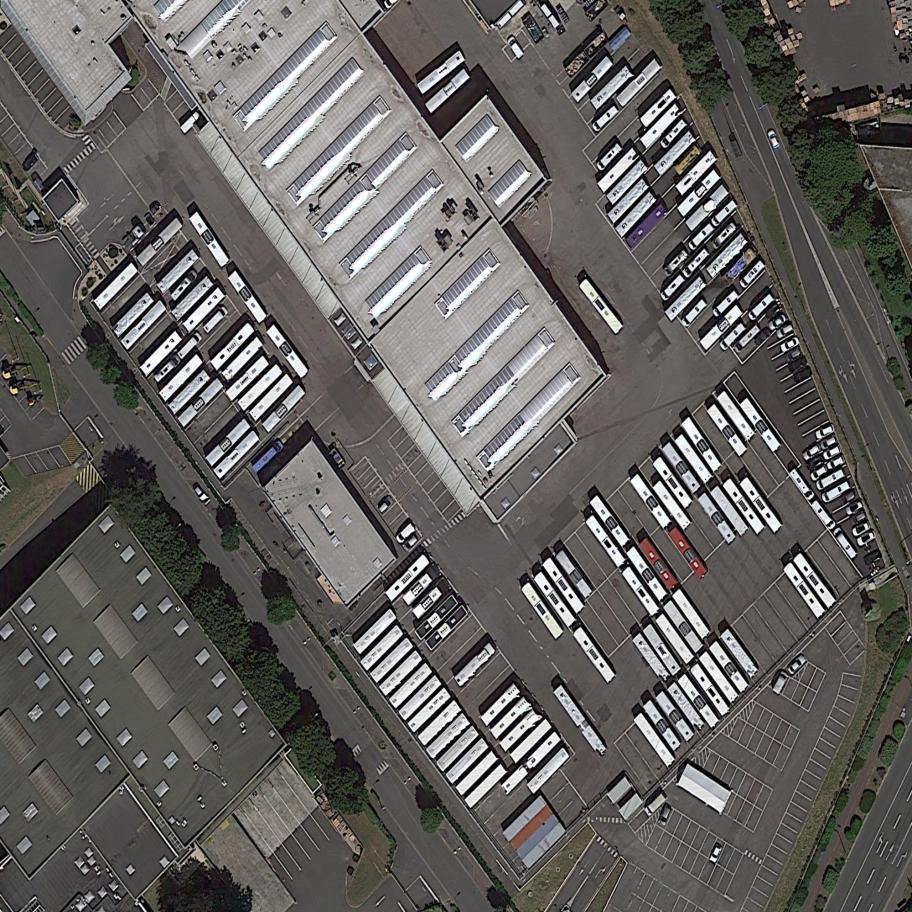large-vehicle: (552, 683, 609, 759), (737, 474, 785, 535), (518, 579, 565, 641), (571, 625, 618, 684), (577, 279, 625, 336), (792, 551, 839, 609), (721, 477, 767, 535), (738, 396, 784, 454), (533, 570, 578, 629), (212, 429, 263, 480), (175, 377, 226, 428), (632, 711, 677, 768), (782, 562, 827, 619), (676, 672, 721, 729), (542, 557, 586, 615), (120, 299, 170, 350), (135, 216, 185, 267), (666, 525, 711, 581), (625, 545, 669, 602), (629, 472, 673, 529), (615, 57, 664, 108), (265, 324, 310, 379), (661, 599, 706, 654), (583, 513, 627, 569), (188, 211, 231, 268), (680, 416, 723, 473), (204, 417, 253, 467), (415, 49, 468, 95), (636, 537, 680, 592), (705, 403, 749, 458), (682, 184, 731, 233), (208, 322, 257, 371), (157, 353, 206, 402), (236, 363, 285, 412), (247, 373, 296, 422), (675, 169, 723, 219), (689, 662, 732, 717), (451, 640, 500, 688), (623, 202, 672, 250), (443, 737, 492, 785), (260, 384, 308, 433), (383, 554, 432, 602), (424, 712, 473, 760), (351, 608, 400, 656), (707, 640, 751, 693), (652, 456, 695, 510), (589, 494, 632, 548), (660, 441, 703, 495), (462, 762, 510, 810), (524, 747, 572, 795), (92, 262, 140, 310), (416, 699, 464, 747), (358, 624, 406, 672), (569, 55, 616, 104), (672, 432, 715, 485), (697, 650, 740, 703), (227, 270, 269, 324), (696, 491, 738, 545), (453, 749, 500, 797), (588, 65, 636, 112), (169, 274, 216, 322), (434, 724, 481, 772), (405, 687, 453, 734), (396, 675, 444, 722), (368, 637, 416, 684), (423, 68, 472, 114), (654, 690, 696, 743), (641, 699, 683, 752), (651, 479, 693, 532), (507, 718, 554, 765), (604, 177, 651, 224), (638, 102, 685, 149), (180, 286, 227, 333), (138, 330, 185, 377), (387, 662, 434, 709), (662, 276, 709, 323), (698, 304, 745, 351), (596, 146, 642, 194), (224, 355, 272, 401), (423, 605, 471, 651), (377, 650, 425, 696), (709, 484, 751, 536), (715, 390, 757, 442), (655, 613, 696, 666), (613, 190, 659, 237), (604, 158, 650, 205), (166, 369, 213, 415), (110, 291, 156, 338), (413, 594, 460, 640), (642, 623, 682, 677), (631, 632, 672, 684), (665, 681, 706, 733), (671, 588, 712, 640), (652, 130, 698, 176), (673, 150, 719, 196), (155, 248, 201, 294), (487, 695, 534, 740), (220, 336, 265, 383), (553, 549, 594, 600), (705, 233, 750, 279), (621, 565, 661, 616), (719, 629, 760, 678), (478, 683, 522, 727), (497, 710, 542, 753), (638, 88, 679, 129), (719, 248, 758, 287), (526, 731, 563, 768), (410, 585, 445, 620), (401, 573, 434, 605), (498, 764, 530, 795)
small-vehicle: (247, 437, 287, 477), (716, 319, 751, 354), (680, 246, 715, 280), (167, 268, 200, 304), (787, 464, 818, 502), (593, 139, 627, 173), (660, 245, 694, 279), (173, 327, 206, 362), (590, 101, 624, 134), (736, 256, 769, 290), (831, 525, 862, 561), (745, 290, 778, 323), (730, 322, 763, 355), (658, 117, 690, 151), (150, 352, 184, 384), (808, 497, 839, 532), (708, 197, 740, 229), (641, 787, 673, 819), (709, 288, 742, 319), (686, 221, 718, 252), (679, 297, 710, 329), (658, 271, 689, 302), (200, 304, 231, 335), (813, 467, 848, 493), (710, 221, 740, 251), (819, 479, 853, 505), (393, 521, 420, 546), (177, 109, 203, 134), (784, 652, 810, 677), (799, 440, 826, 464), (505, 33, 527, 61), (763, 297, 788, 321), (777, 333, 804, 355), (854, 528, 882, 549), (769, 670, 791, 696), (190, 479, 212, 504), (19, 152, 42, 175), (804, 453, 828, 475), (814, 422, 840, 442), (752, 325, 775, 347), (786, 354, 811, 374), (808, 463, 831, 484), (791, 365, 815, 385), (850, 520, 874, 540), (766, 312, 789, 332), (848, 508, 871, 528), (837, 488, 859, 508), (377, 494, 397, 516), (821, 443, 844, 462), (844, 498, 867, 517), (825, 453, 848, 472), (400, 533, 421, 553), (774, 322, 796, 341), (862, 548, 884, 567), (783, 346, 806, 364), (657, 804, 674, 826), (708, 842, 725, 864), (766, 127, 782, 150), (820, 434, 840, 451), (141, 211, 158, 230), (149, 201, 163, 215)
